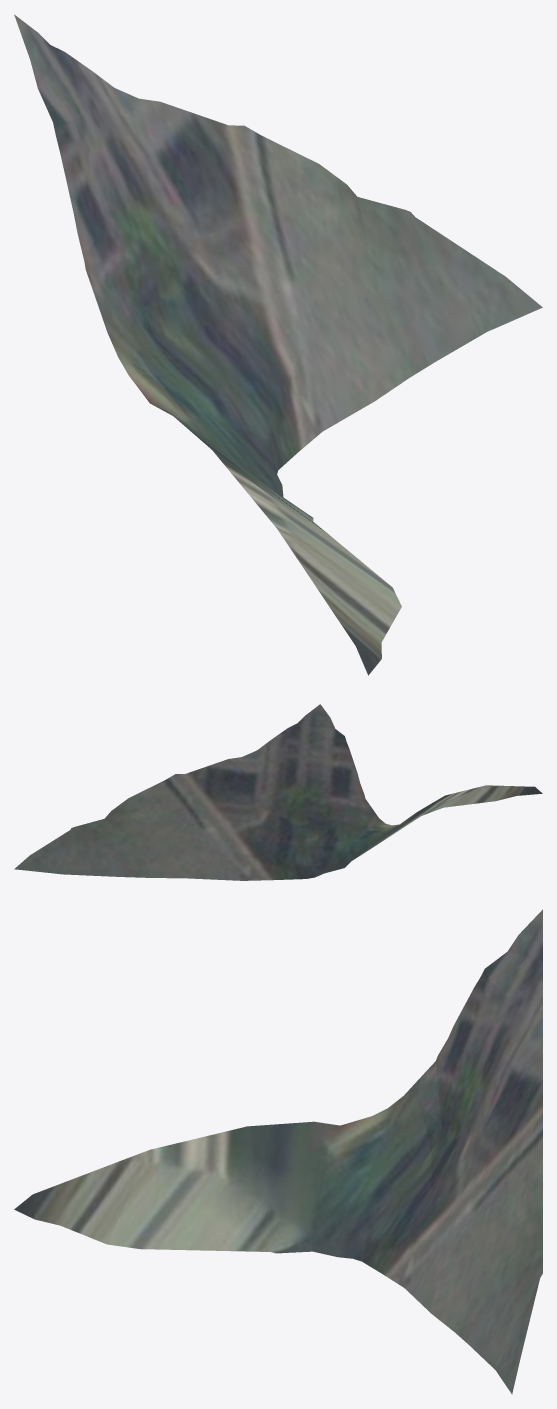
Rendered from Tile_+003_+005_L20_000300.glb.
The picture shows the model from 3 angles, top to bottom: view 1: azimuth 30°, elevation 25°; view 2: azimuth 150°, elevation 25°; view 3: azimuth 270°, elevation 25°; orthographic projection. The views are drawn at different scales.
Parts seen in each view (by area): view 1: rtc; view 2: rtc; view 3: rtc.
Boxes of the visible parts, left/top/right/bottom form: rtc: left=14, top=14, right=542, bottom=675; rtc: left=14, top=704, right=542, bottom=880; rtc: left=14, top=909, right=542, bottom=1394.
Size of the model in its own units: 19.09 by 14.43 by 23.04.
1 material, 1 textured.
